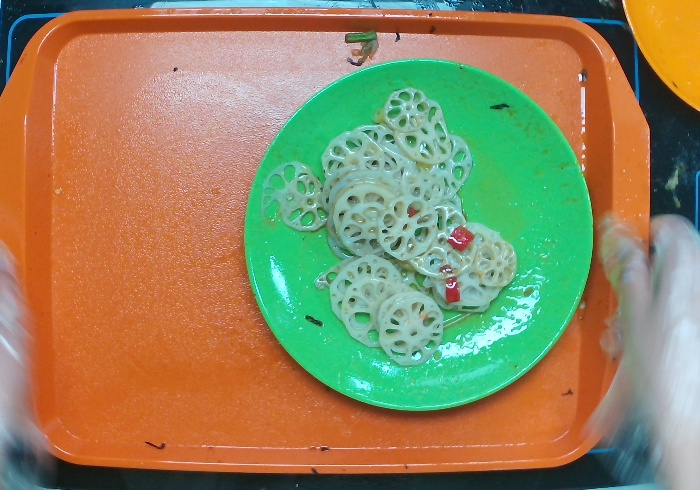HZYJPL-Lv_Se_Yuan_Pan: (242, 57, 595, 413)
